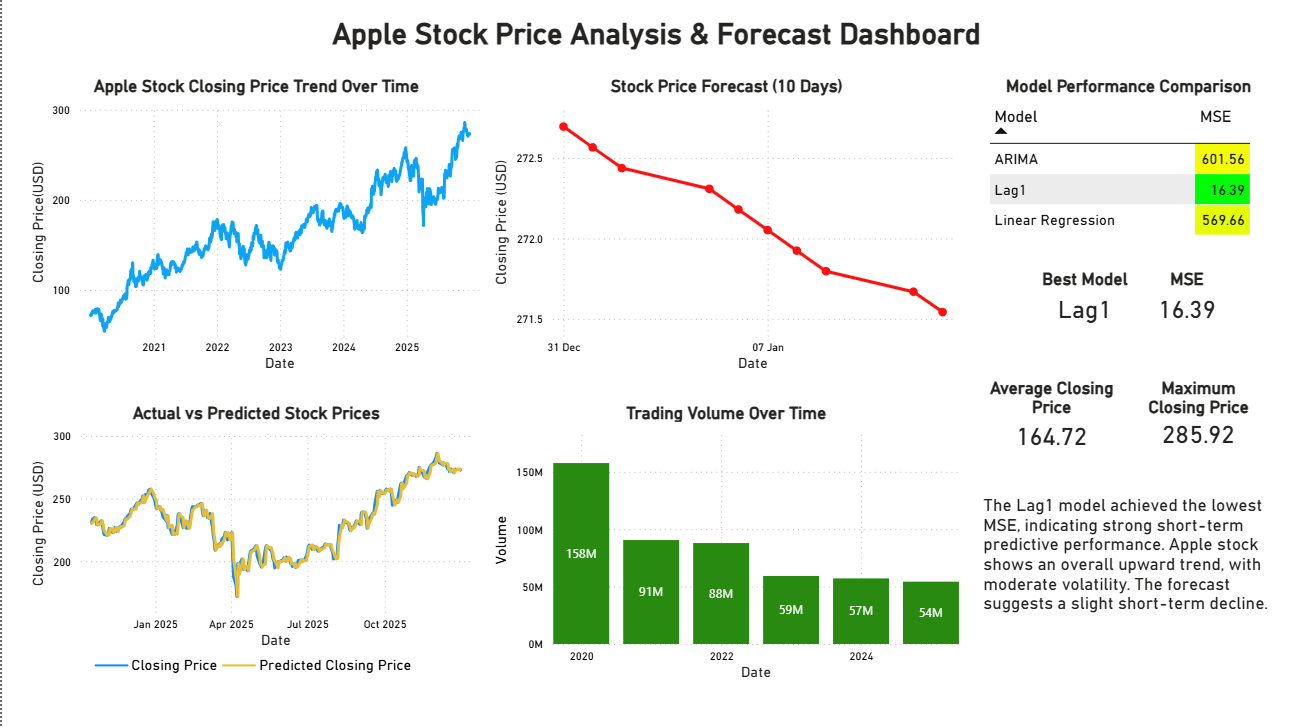

This screenshot's page, from the dashboard's own definition file:
{"tool":"powerbi","page":{"name":"Page 1","canvas":[1280,720],"ordinal":0},"visuals":[{"type":"lineChart","title":"Apple Stock Closing Price Trend Over Time","fields":{"Y":["Avg(apple_data.Close Price)"],"Category":["apple_data.Date"]},"box":[21.7,83.2,453.6,294.4],"z":0},{"type":"lineChart","title":"Actual vs Predicted Stock Prices","fields":{"Y2":["Avg(test_predictions.Lag1_predict)"],"Y":["Avg(test_predictions.Close)"],"Category":["test_predictions.Date"]},"box":[21.7,401.7,453.6,277.5],"z":1000},{"type":"lineChart","title":"Stock Price Forecast (10 Days)","fields":{"Y":["Avg(apple_future.Future Price)"],"Category":["apple_future.Date"]},"box":[475.3,83.2,465.7,294.4],"z":2000},{"type":"card","title":"Best Model","fields":{"Values":["Min(Table (3).Value)"]},"box":[1002.6,271.4,113.4,63.9],"z":3000},{"type":"tableEx","title":"Model Performance Comparison","fields":{"Values":["Model Comparison.Model","Model Comparison.MSE"]},"box":[960.3,83.2,284.7,162.9],"z":4000},{"type":"card","title":"Average Closing Price","fields":{"Values":["Avg(apple_data.Close Price)"]},"box":[960.3,377.6,133.9,76],"z":5000},{"type":"card","title":"Maximum Closing Price","fields":{"Values":["Max(apple_data.Close Price)"]},"box":[1102.7,377.6,135.1,76],"z":6000},{"type":"card","title":"MSE","fields":{"Values":["Min(Table (3).Value)"]},"box":[1116,271.4,85.7,63.9],"z":7000},{"type":"columnChart","title":"Trading Volume Over Time","fields":{"Category":["apple_data.Date.Variation.Date Hierarchy.Year","apple_data.Date.Variation.Date Hierarchy.Quarter","apple_data.Date.Variation.Date Hierarchy.Month","apple_data.Date.Variation.Date Hierarchy.Day"],"Y":["Avg(apple_data.Volume)"]},"box":[475.3,401.7,465.7,277.5],"z":8000},{"type":"textbox","box":[248.2,19.6,783.8,42.8],"z":9000},{"type":"textbox","box":[955.5,487.4,295.6,138.7],"z":9002}]}

Visuals, with their boxes in screenshot pixels (x1, y1, x2, y2), scaled from the page's 1280x720 canvas onto the 1311x727 screenshot:
"Apple Stock Closing Price Trend Over Time" lineChart: <region>22, 84, 487, 381</region>
"Actual vs Predicted Stock Prices" lineChart: <region>22, 406, 487, 686</region>
"Stock Price Forecast (10 Days)" lineChart: <region>487, 84, 964, 381</region>
"Best Model" card: <region>1027, 274, 1143, 339</region>
"Model Performance Comparison" tableEx: <region>984, 84, 1275, 248</region>
"Average Closing Price" card: <region>984, 381, 1121, 458</region>
"Maximum Closing Price" card: <region>1129, 381, 1268, 458</region>
"MSE" card: <region>1143, 274, 1231, 339</region>
"Trading Volume Over Time" columnChart: <region>487, 406, 964, 686</region>
textbox: <region>254, 20, 1057, 63</region>
textbox: <region>979, 492, 1281, 632</region>
